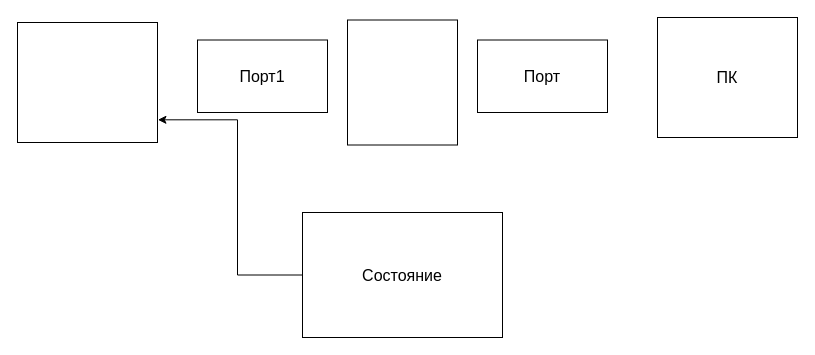
The diagram is 815 pixels wide and 355 high, and some of its shapes have lost their labels. Each missing label, with the centre of its shape:
"Почтальон" belongs at pixel 402 82.
"Экран" belongs at pixel 87 82.
